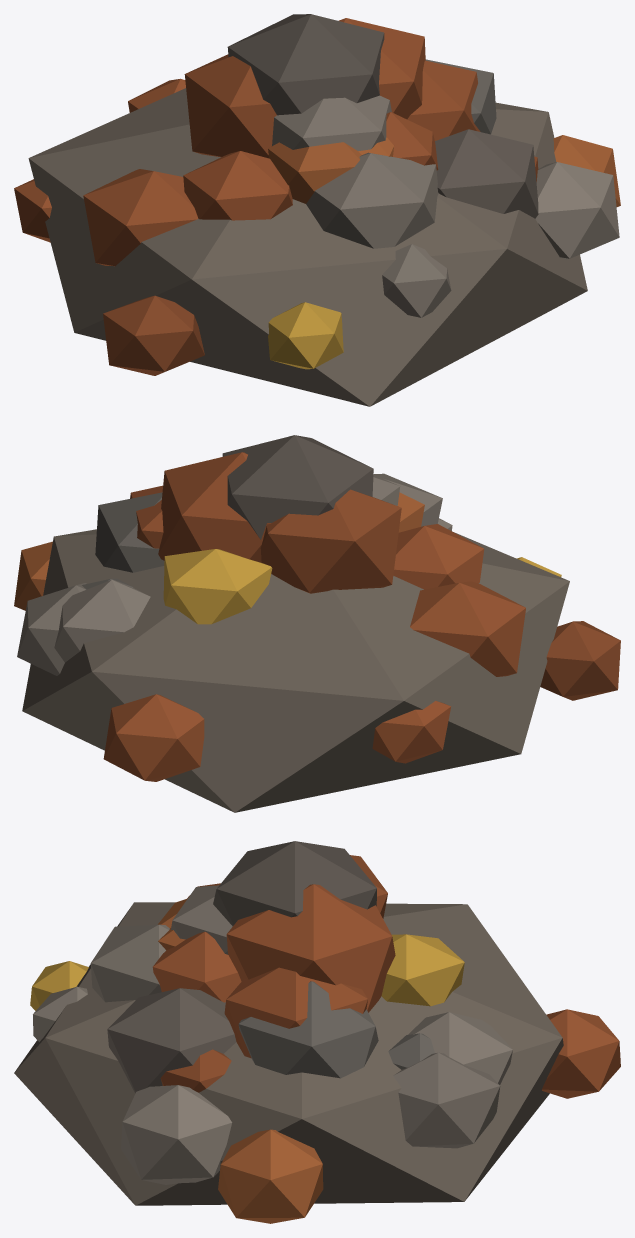
File: ore-pile.glb
3 views of the same model, one above another, from view 1: azimuth 30°, elevation 25°; view 2: azimuth 150°, elevation 25°; view 3: azimuth 270°, elevation 25° (orthographic).
Parts seen in each view (by area): view 1: ore-pile; view 2: ore-pile; view 3: ore-pile.
Boxes of the visible parts, x1,y1,x2,y2 form: ore-pile: (14, 14, 620, 406); ore-pile: (14, 435, 620, 812); ore-pile: (14, 841, 620, 1223).
Size of the model in its own units: 3.49 by 2.02 by 3.29.
